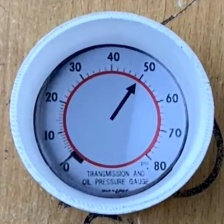gauge: (34, 44, 187, 198)
